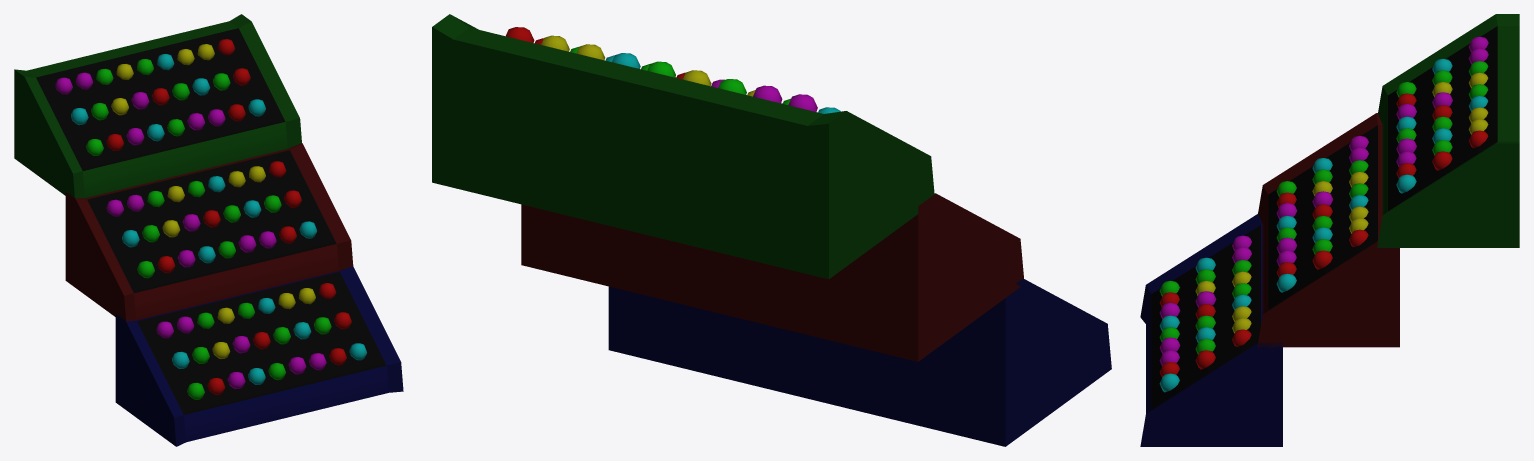
File: Seats.FBX
3 renders of one model, left to right at view 1: azimuth 30°, elevation 25°; view 2: azimuth 150°, elevation 25°; view 3: azimuth 270°, elevation 25°, orthographic. The views are drawn at different scales.
Parts seen in each view (by area): view 1: Box003, Box002, Box001; view 2: Box003, Box001, Box002; view 3: Box003, Box002, Box001.
Part boxes in pixels (<box>): Box003: <box>14,14,301,198</box>; Box002: <box>65,143,353,321</box>; Box001: <box>115,266,403,446</box>; Box003: <box>432,14,934,279</box>; Box001: <box>608,278,1111,446</box>; Box002: <box>521,193,1023,361</box>; Box003: <box>1377,14,1519,247</box>; Box002: <box>1257,113,1399,347</box>; Box001: <box>1140,214,1282,446</box>.
Size of the model in its own units: 728 by 793 by 899.
